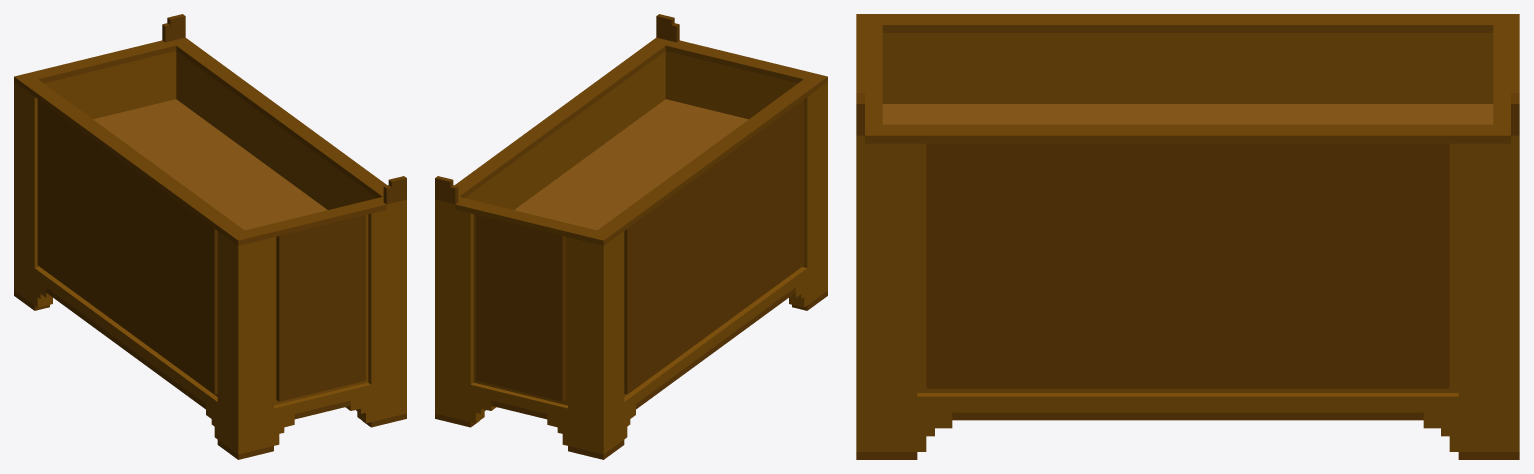
The model's file is coffre.obj.
3 views of the same model, side by side, from view 1: azimuth 30°, elevation 25°; view 2: azimuth 150°, elevation 25°; view 3: azimuth 270°, elevation 25° (orthographic). The views are drawn at different scales.
Size of the model in its own units: 33 by 45 by 76.
Materials: 1 (1 with a texture image).
